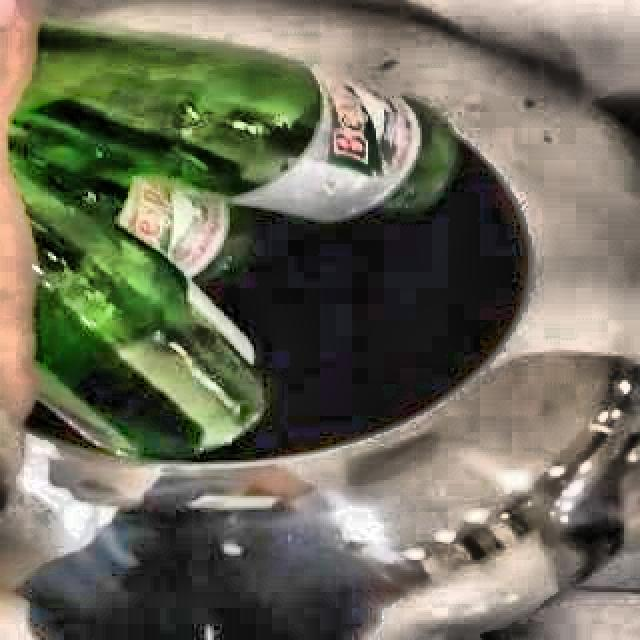glass: (6, 26, 456, 465)
